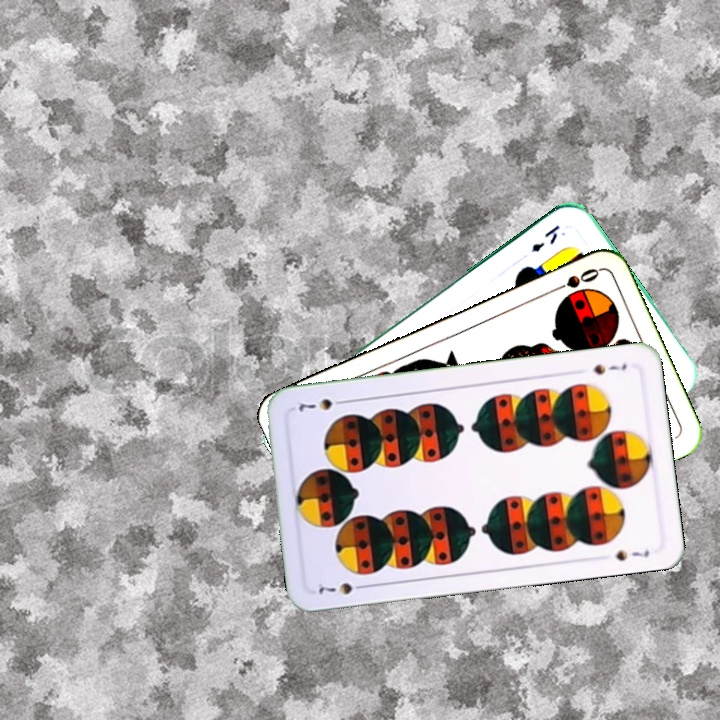EK: (527, 220, 563, 255)
S7: (311, 578, 371, 597), (589, 359, 629, 377)
SO: (545, 264, 602, 296)
